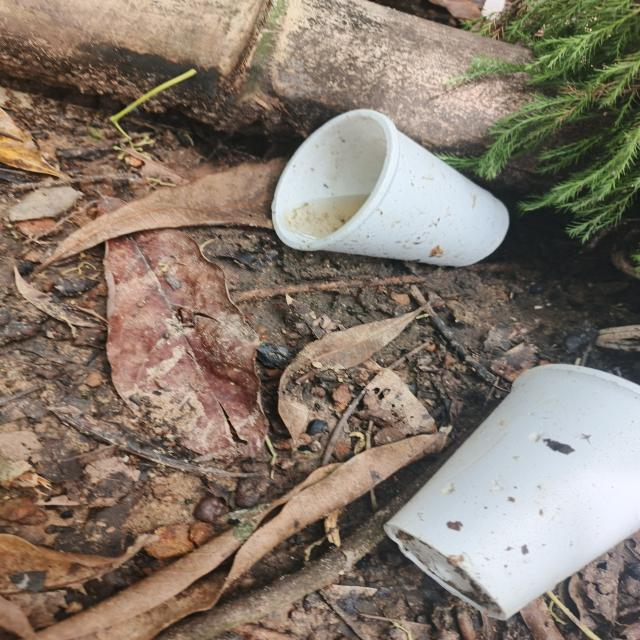plastic: (346, 352, 640, 625), (252, 93, 540, 274)
